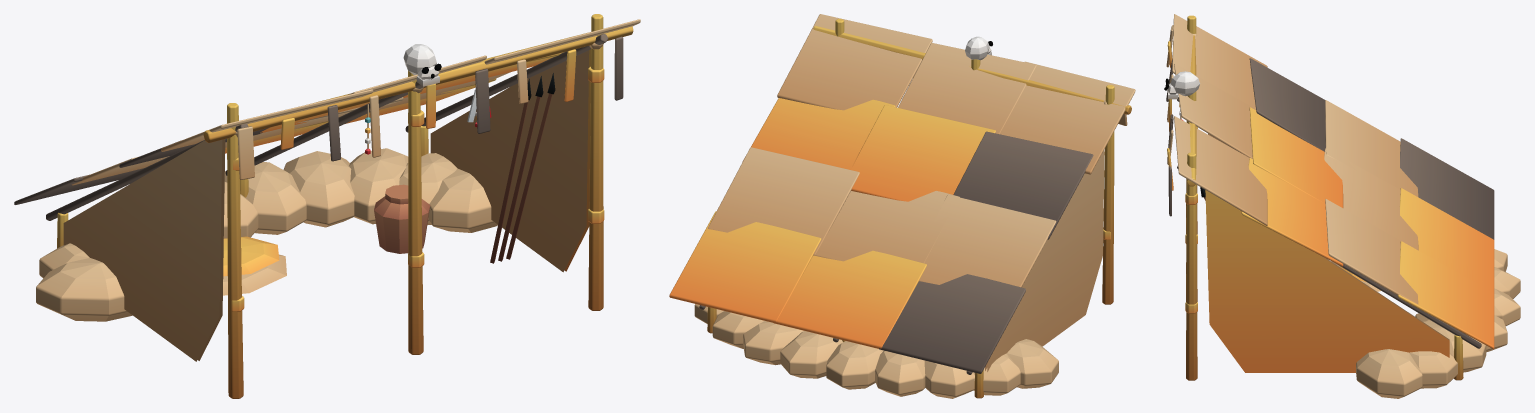
Rendered from dustpaw_hut.glb.
The picture shows the model from 3 angles, left to right: view 1: azimuth 30°, elevation 25°; view 2: azimuth 150°, elevation 25°; view 3: azimuth 270°, elevation 25°; orthographic projection. The views are drawn at different scales.
Parts seen in each view (by area): view 1: dustpaw_hut; view 2: dustpaw_hut; view 3: dustpaw_hut.
Boxes of the visible parts, x1,y1,x2,y2 form: dustpaw_hut: (14, 14, 640, 398); dustpaw_hut: (669, 14, 1135, 398); dustpaw_hut: (1164, 14, 1520, 398).
Size of the model in its own units: 4.84 by 3.06 by 4.
Materials: 1 (1 with a texture image).
